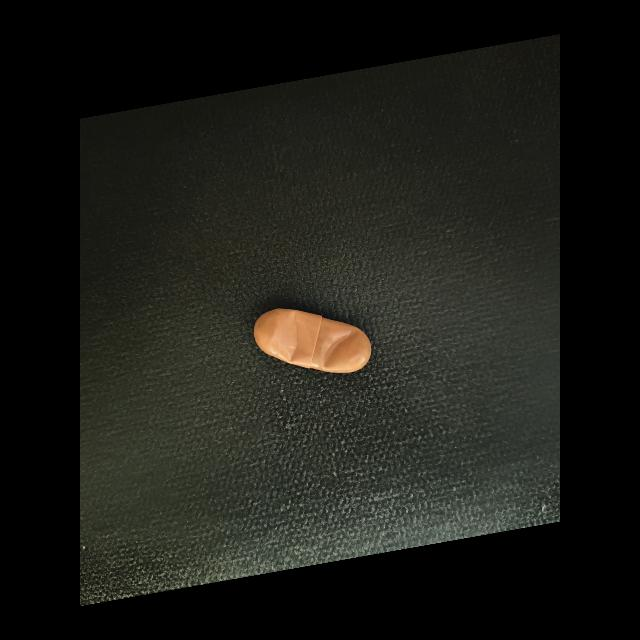Defective Capsule: (269, 310, 315, 364), (319, 327, 361, 370)
